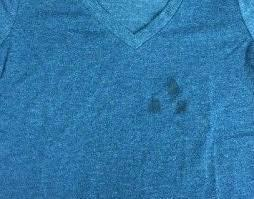mustard: (145, 77, 188, 117)
